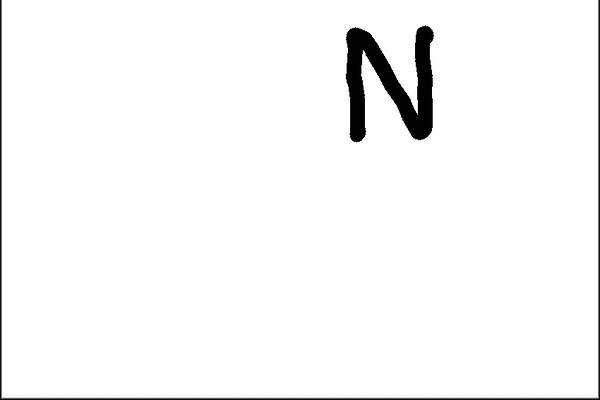N: (335, 17, 442, 148)
